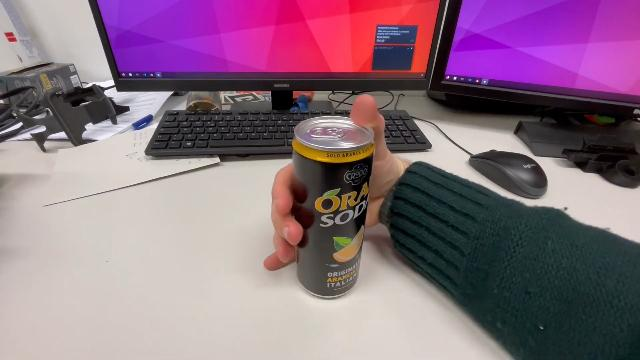OranSoda: (289, 113, 379, 302)
